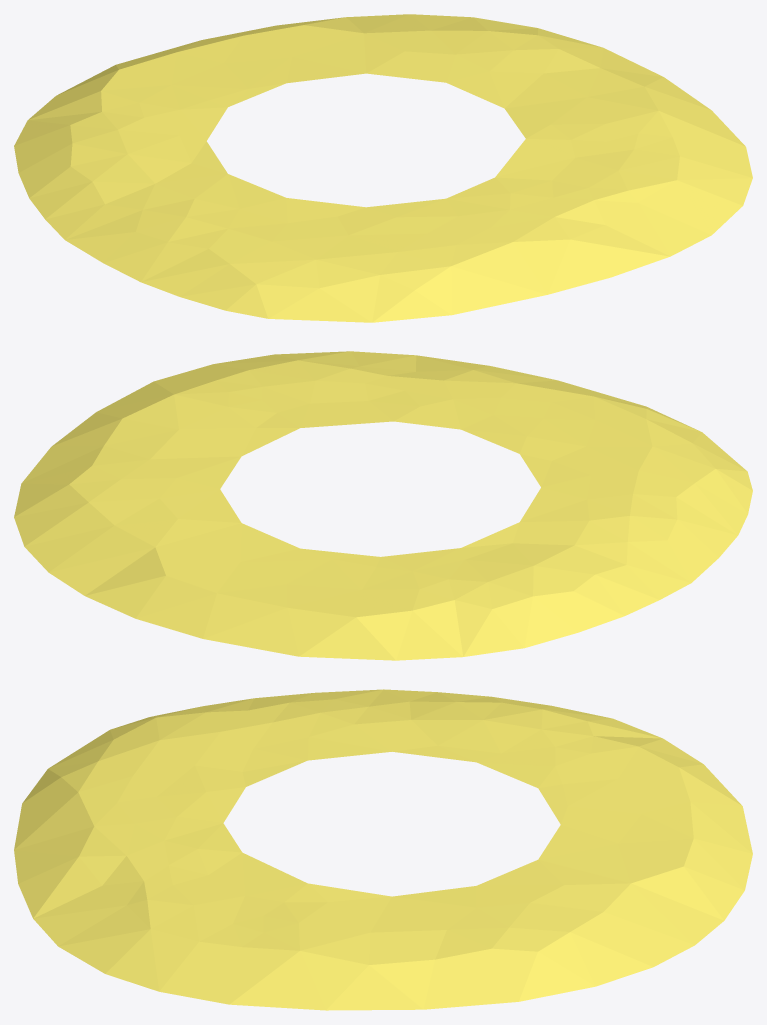
File: Hill_020.fbx
3 views of the same model, one above another, from view 1: azimuth 30°, elevation 25°; view 2: azimuth 150°, elevation 25°; view 3: azimuth 270°, elevation 25° (orthographic). The views are drawn at different scales.
Visible parts, largest first — view 1: Hill_020; view 2: Hill_020; view 3: Hill_020.
Part boxes in pixels (x1,y1,x2,y2): Hill_020: [14, 14, 752, 322]; Hill_020: [14, 351, 752, 660]; Hill_020: [14, 689, 752, 1010].
Bounding box in the file's own units: 984 × 962 × 43.34.
Materials: 1 (1 with a texture image).
